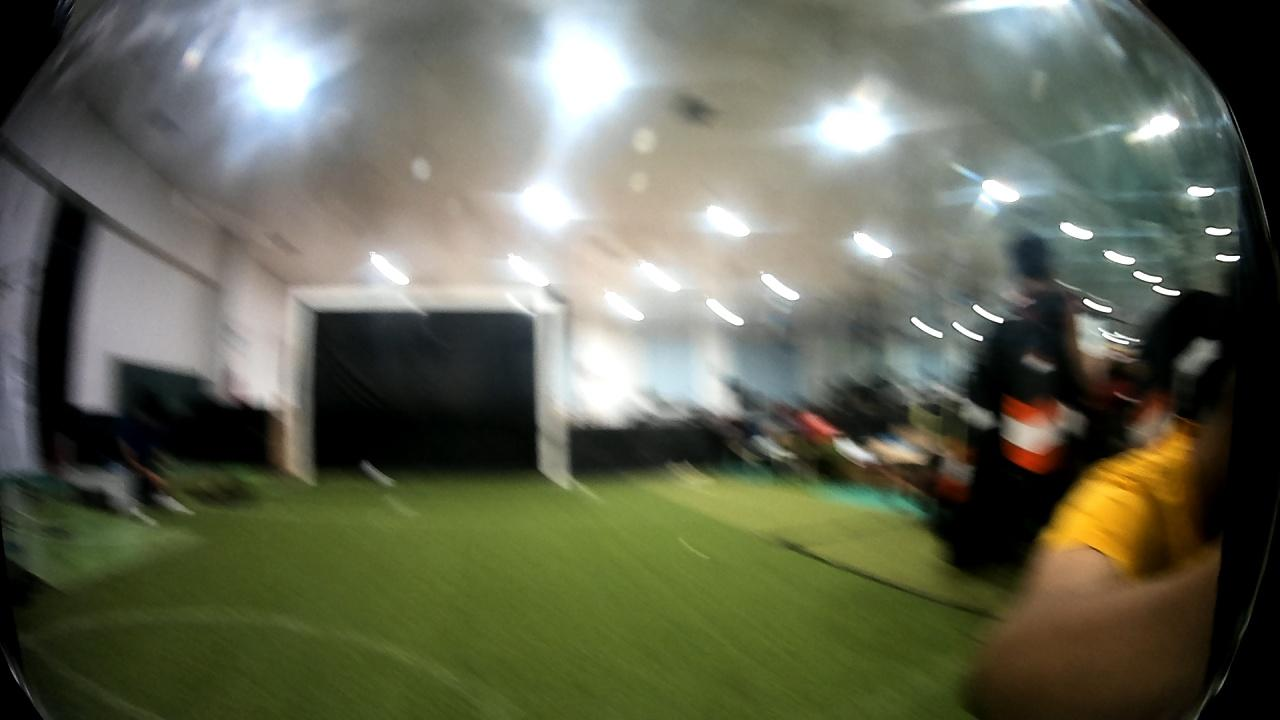ball: (361, 454, 398, 491)
